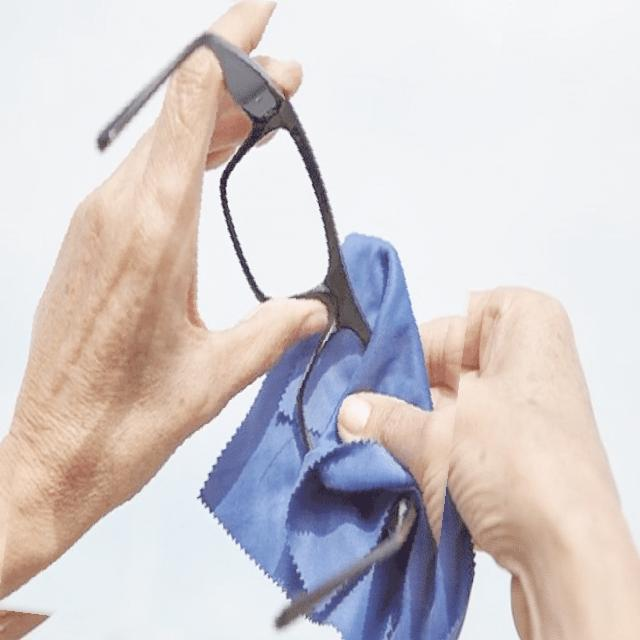glasses: (15, 0, 483, 640)
